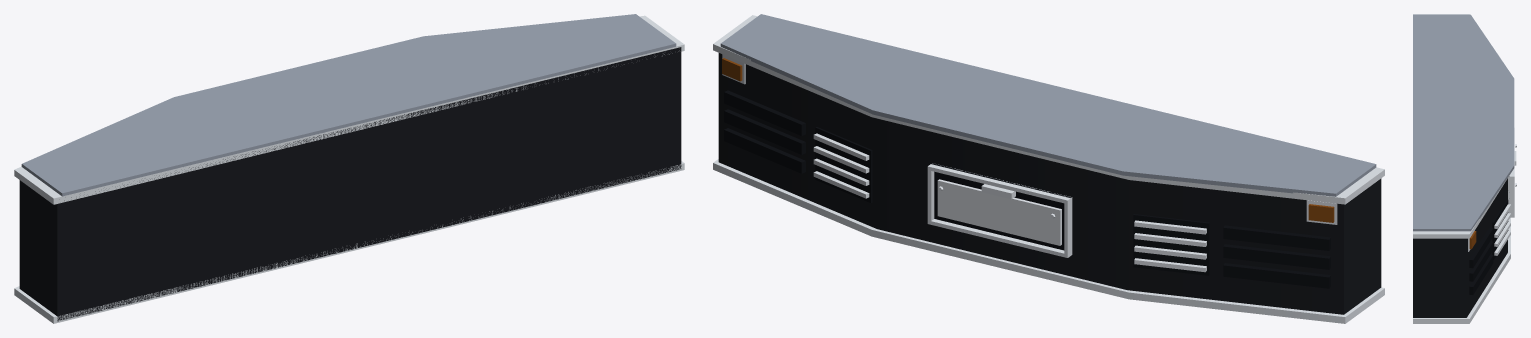
File: fb_deck_checker.glb
The picture shows the model from 3 angles, left to right: view 1: azimuth 30°, elevation 25°; view 2: azimuth 150°, elevation 25°; view 3: azimuth 270°, elevation 25°; orthographic projection. The views are drawn at different scales.
Visible parts, largest first — view 1: fb_deck_checker_MID_deco_body, fb_deck_checker_TOP_deco_checker, fb_deck_checker_TOP_deco_body, fb_deck_checker_BOT_deco_body, fb_deck_checker_TOP_chrome, fb_deck_checker_BOT_chrome; view 2: fb_deck_checker_TOP_deco_checker, fb_deck_checker_MID_deco_body, fb_deck_checker_TOP_deco_body, fb_deck_checker_BOT_deco_body, fb_deck_checker_MID_deco_trim, fb_deck_checker_CEN_chrome, fb_deck_checker_BOT_chrome, fb_deck_checker_CEN_deco_trim, fb_deck_checker_CEN_deco_plate, fb_deck_checker_TOP_chrome, fb_deck_checker_TOP_deco_signal; view 3: fb_deck_checker_TOP_deco_checker, fb_deck_checker_MID_deco_body, fb_deck_checker_TOP_deco_body, fb_deck_checker_BOT_deco_body, fb_deck_checker_MID_deco_trim, fb_deck_checker_CEN_chrome, fb_deck_checker_BOT_chrome, fb_deck_checker_TOP_chrome, fb_deck_checker_CEN_deco_trim, fb_deck_checker_TOP_deco_signal.
Part boxes in pixels (x1,y1,x2,y2): fb_deck_checker_MID_deco_body: (19,82,681,296); fb_deck_checker_TOP_deco_checker: (21,14,676,196); fb_deck_checker_TOP_deco_body: (19,47,681,234); fb_deck_checker_BOT_deco_body: (19,145,681,321); fb_deck_checker_TOP_chrome: (14,15,684,204); fb_deck_checker_BOT_chrome: (14,161,684,323); fb_deck_checker_TOP_deco_checker: (720,14,1376,196); fb_deck_checker_MID_deco_body: (718,80,1381,295); fb_deck_checker_TOP_deco_body: (718,53,1381,232); fb_deck_checker_BOT_deco_body: (718,143,1381,314); fb_deck_checker_MID_deco_trim: (724,90,1330,288); fb_deck_checker_CEN_chrome: (813,133,1206,272); fb_deck_checker_BOT_chrome: (713,159,1384,323); fb_deck_checker_CEN_deco_trim: (815,127,1209,275); fb_deck_checker_CEN_deco_plate: (937,179,1061,245); fb_deck_checker_TOP_chrome: (713,15,1384,224); fb_deck_checker_TOP_deco_signal: (722,58,1334,222); fb_deck_checker_TOP_deco_checker: (1413,14,1514,231); fb_deck_checker_MID_deco_body: (1413,194,1507,303); fb_deck_checker_TOP_deco_body: (1413,178,1507,259); fb_deck_checker_BOT_deco_body: (1413,240,1507,317); fb_deck_checker_MID_deco_trim: (1469,227,1493,294); fb_deck_checker_CEN_chrome: (1494,128,1516,255); fb_deck_checker_BOT_chrome: (1413,217,1510,323); fb_deck_checker_TOP_chrome: (1413,14,1509,251); fb_deck_checker_CEN_deco_trim: (1492,176,1509,259); fb_deck_checker_TOP_deco_signal: (1469,231,1476,249).
Size of the model in its own units: 2.53 by 0.492 by 0.503.
